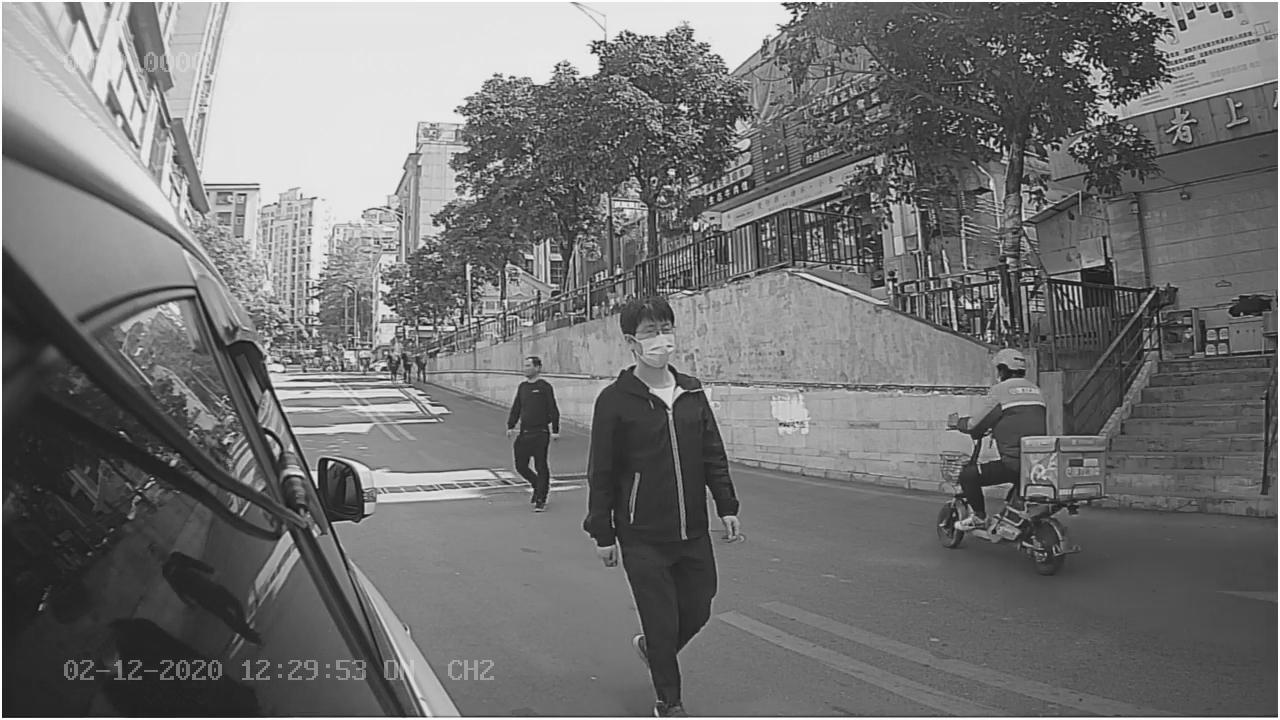person: (579, 291, 750, 568), (490, 349, 576, 528)
